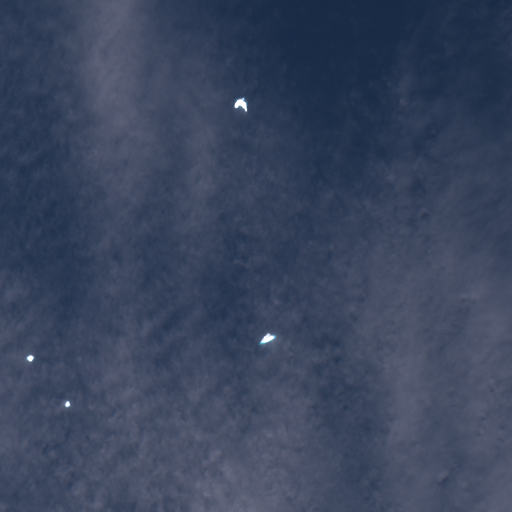Iceberg: (234, 97, 246, 112), (259, 333, 275, 344), (26, 355, 33, 361), (65, 401, 69, 407)
